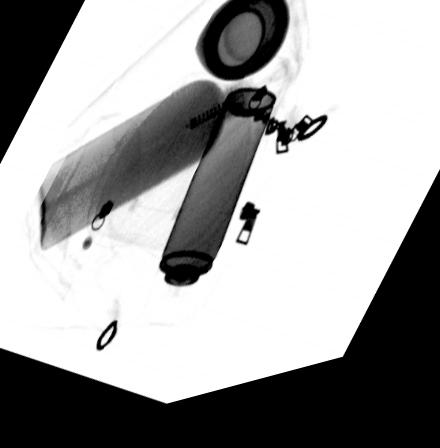Sprayer: (138, 98, 278, 338)
